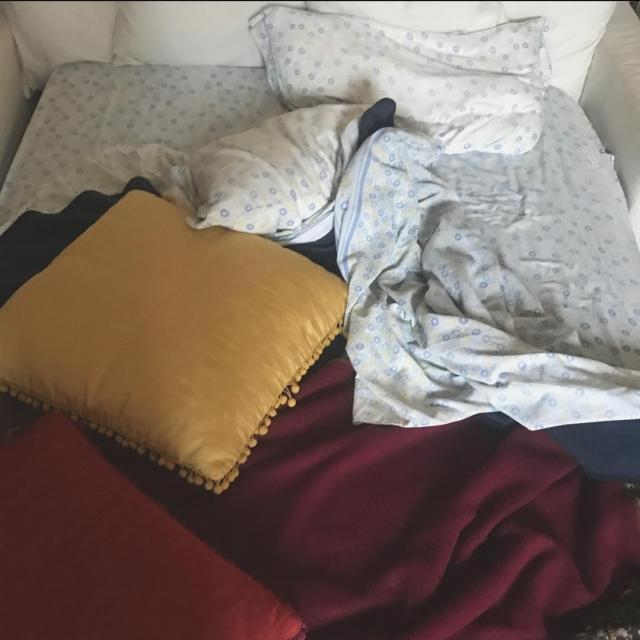bed: (19, 21, 640, 608)
